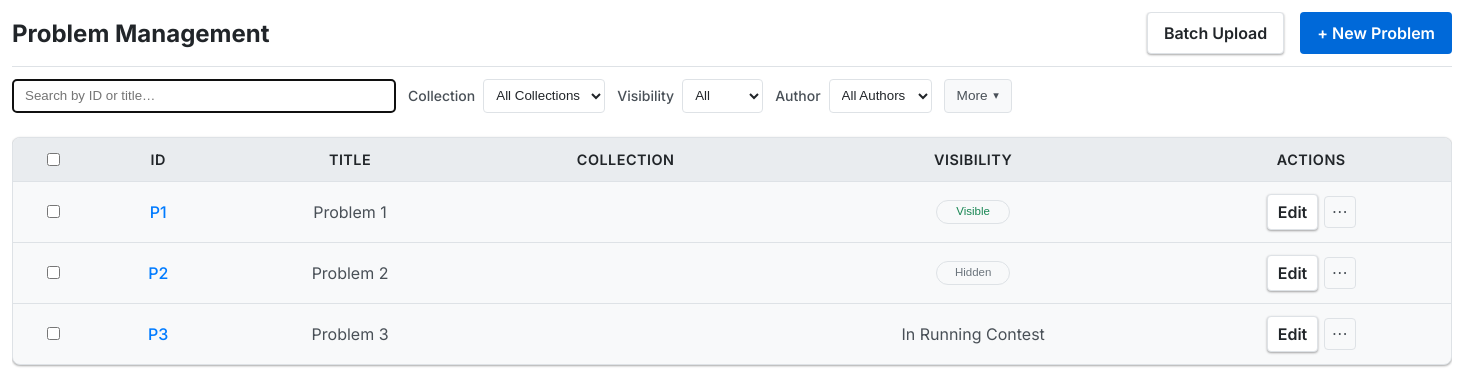
Test: ProblemManagement Component › Show More pagination (server-side) › keeps the same focused search element while a filtered request is pending
Expected: the text "Problem 1" is shown, [224,181,477,242]
Type "slow" into the search field named "Search problems" at (204, 96), box [12,79,396,113]
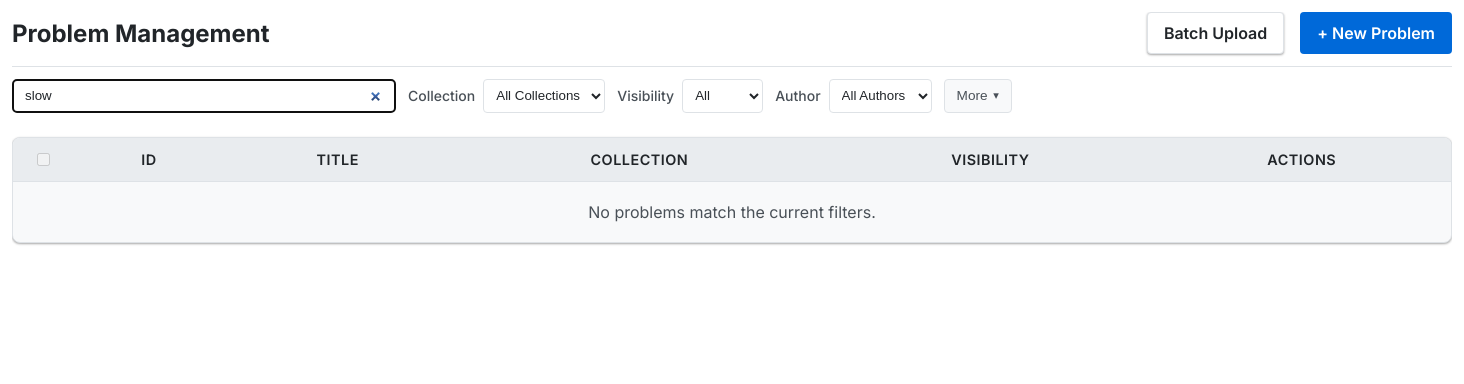
Now the text "No problems match the current filters." is shown, box [13,181,1451,242]
